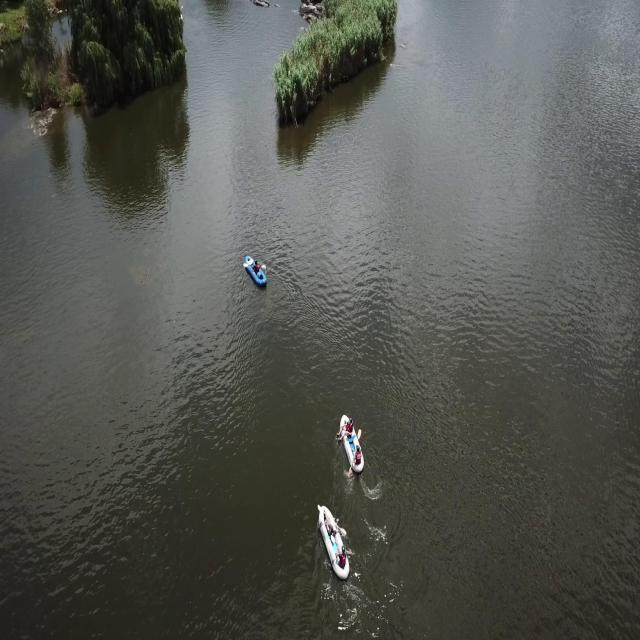kayak: (316, 502, 354, 584), (336, 411, 366, 482), (243, 250, 269, 290)
